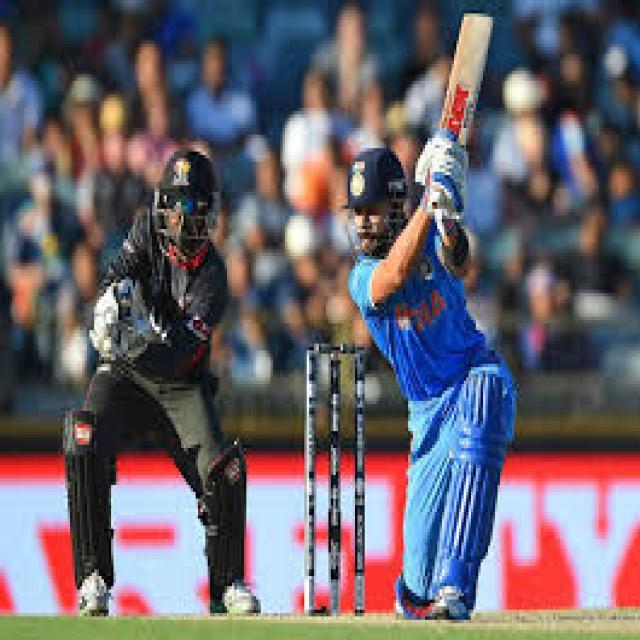bat: (435, 13, 508, 141)
